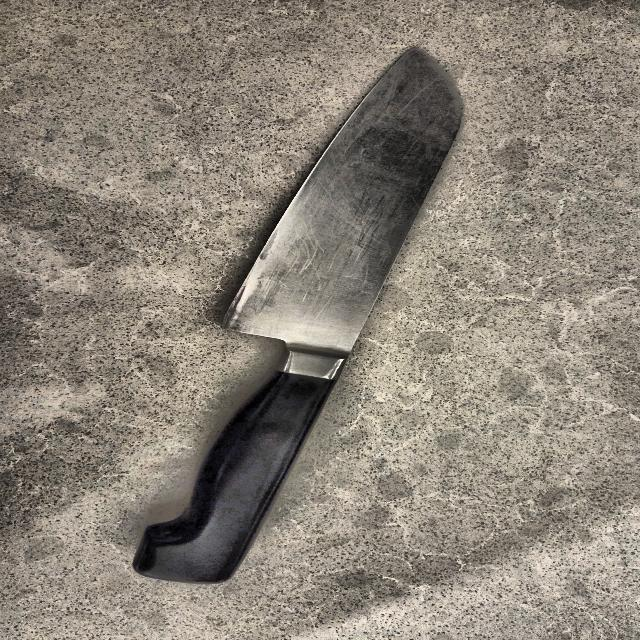knife: (128, 48, 462, 586)
